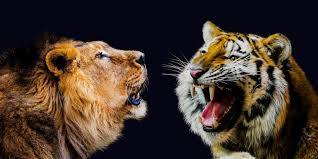lion: (1, 24, 158, 159)
tiger: (166, 9, 318, 159)
